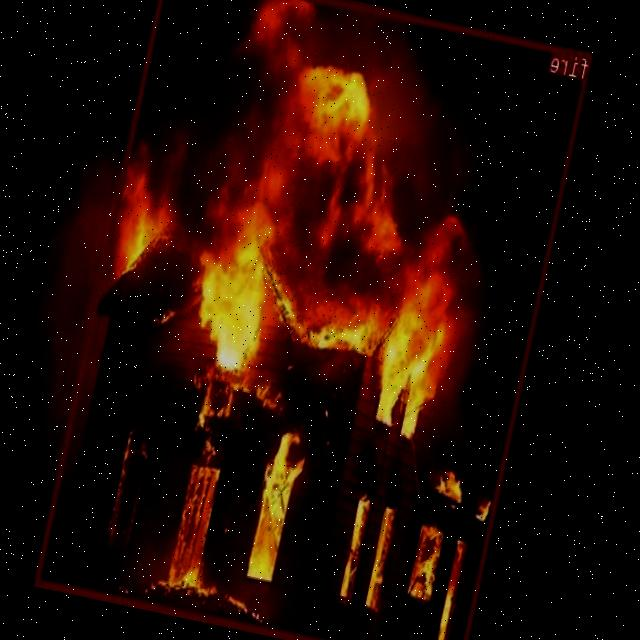fire: (35, 0, 594, 640)
